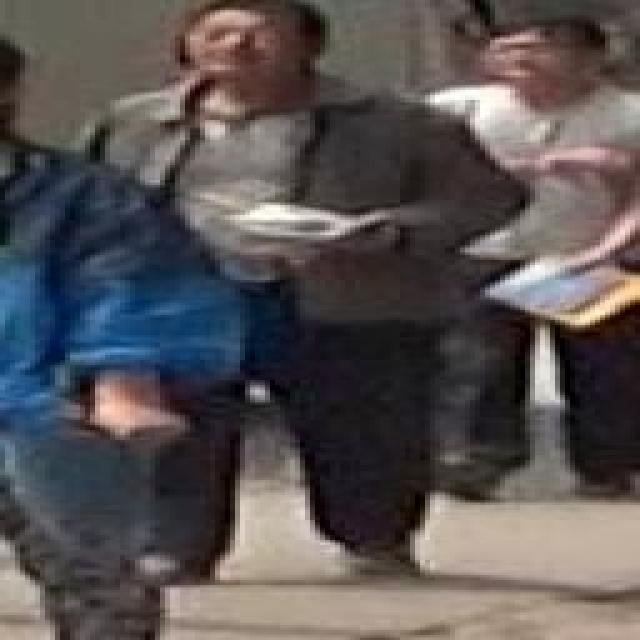adult: (64, 1, 501, 579), (0, 40, 230, 640), (390, 13, 640, 495)
